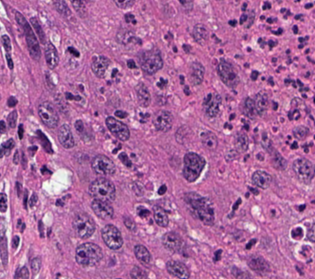nucleus: (184, 192, 213, 225), (182, 152, 204, 181), (89, 178, 115, 202), (75, 243, 102, 266), (217, 60, 238, 87), (140, 49, 162, 74), (106, 117, 129, 140), (73, 213, 94, 238), (101, 224, 122, 249), (38, 101, 58, 127), (292, 158, 313, 182), (91, 155, 115, 175), (203, 93, 221, 117), (91, 199, 113, 218), (166, 260, 189, 278), (162, 231, 182, 251), (153, 110, 172, 131), (58, 124, 74, 148), (91, 56, 109, 77), (248, 256, 269, 273), (252, 170, 271, 188), (45, 42, 58, 68), (253, 91, 267, 115), (189, 62, 204, 84), (136, 83, 150, 106), (37, 131, 52, 152), (153, 205, 168, 226), (192, 24, 208, 42), (201, 132, 217, 150), (134, 245, 150, 263), (243, 97, 256, 118), (272, 151, 286, 169), (234, 132, 247, 151), (117, 30, 135, 43), (293, 126, 308, 139), (130, 266, 146, 278), (124, 217, 135, 231), (31, 257, 40, 274), (119, 153, 130, 166), (262, 133, 270, 149), (307, 225, 314, 241), (75, 120, 83, 132), (30, 193, 37, 206), (68, 47, 78, 56), (137, 208, 148, 216), (115, 110, 126, 117), (127, 60, 135, 67), (251, 71, 257, 79), (39, 221, 42, 236), (159, 186, 165, 193)
